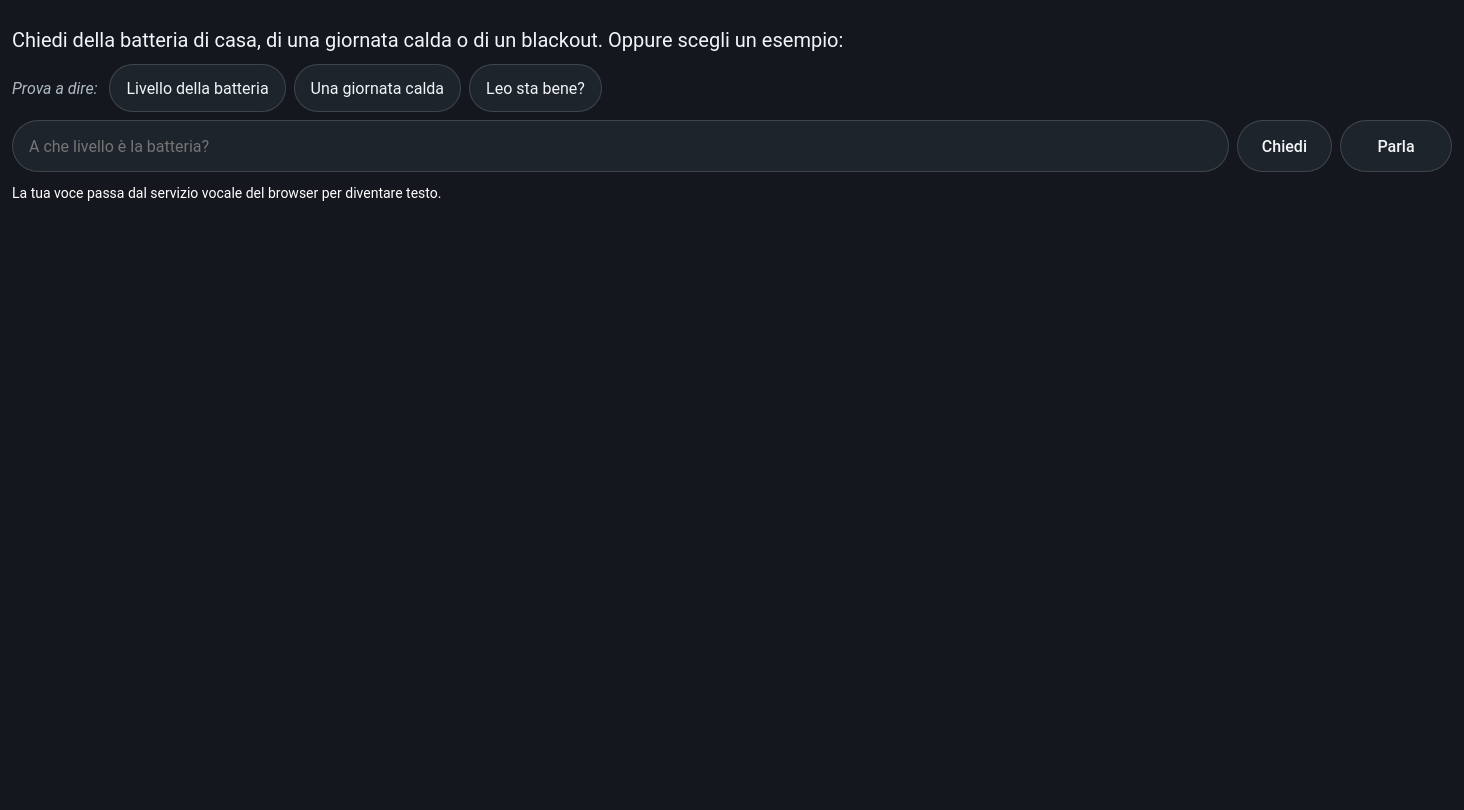
Test: the question box › says it in Italian too, with the words the voice bar already uses
Click the button "Parla". click: (1396, 146)
box: [1340,120,1452,172]
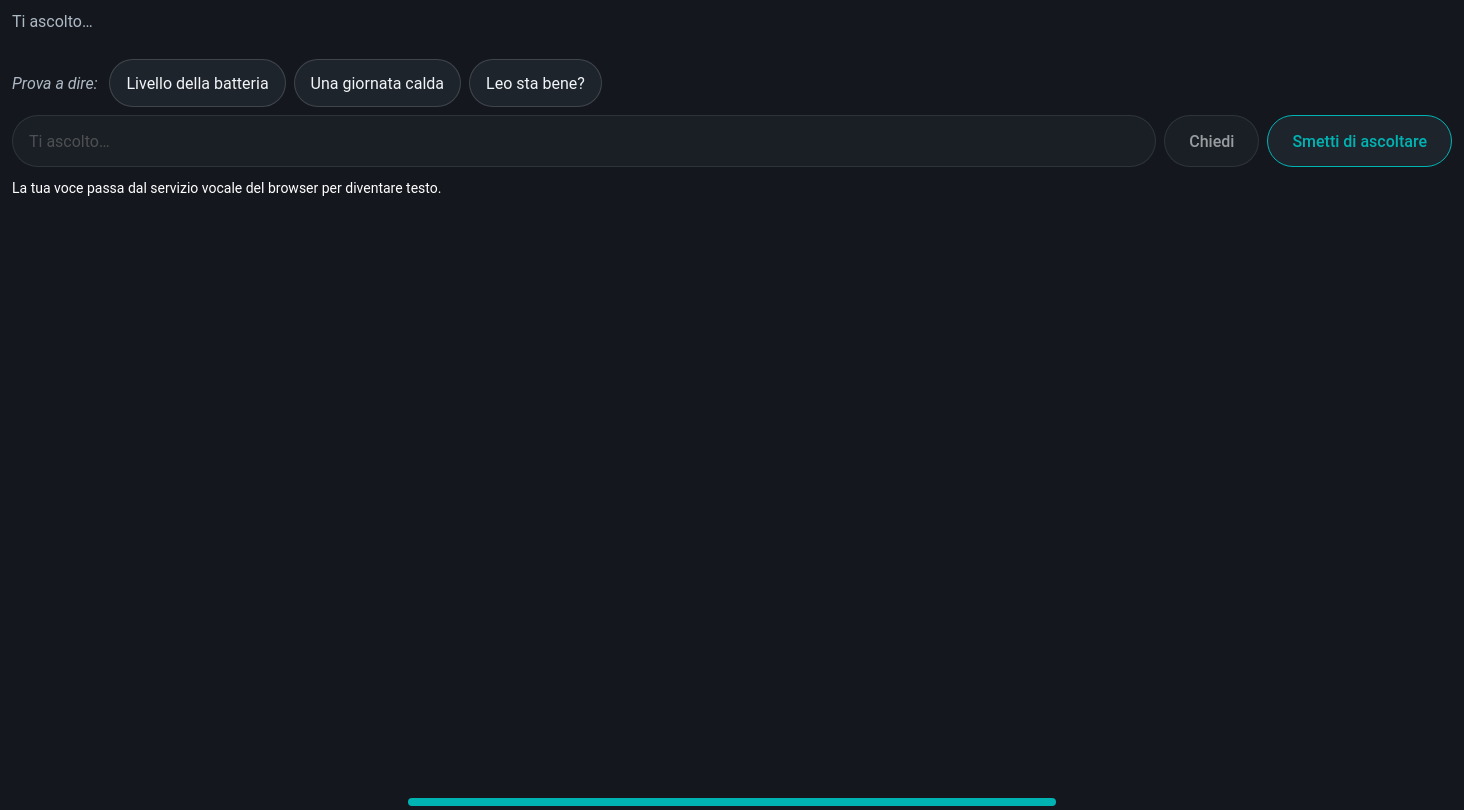
expect the message "Ti ascolto…" is shown: met, box [12,12,93,31]
